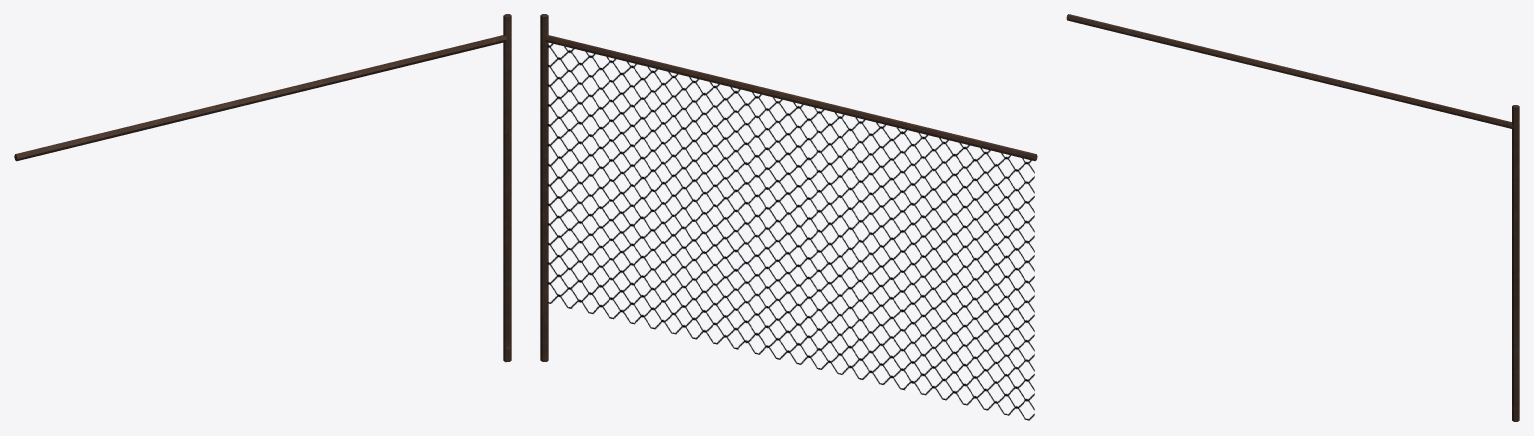
File: fence.glb
3 renders of one model, left to right at view 1: azimuth 30°, elevation 25°; view 2: azimuth 150°, elevation 25°; view 3: azimuth 330°, elevation 25°, orthographic. The views are drawn at different scales.
Parts seen in each view (by area): view 1: Cylinder.004; view 2: Cylinder.004; view 3: Cylinder.004.
Boxes of the visible parts, box(x1,y1,x2,y2) form: Cylinder.004: box(14, 14, 511, 362); Cylinder.004: box(540, 14, 1037, 420); Cylinder.004: box(1066, 14, 1519, 421).
Size of the model in its own units: 3 by 2 by 0.04.
2 materials, 2 textured.
